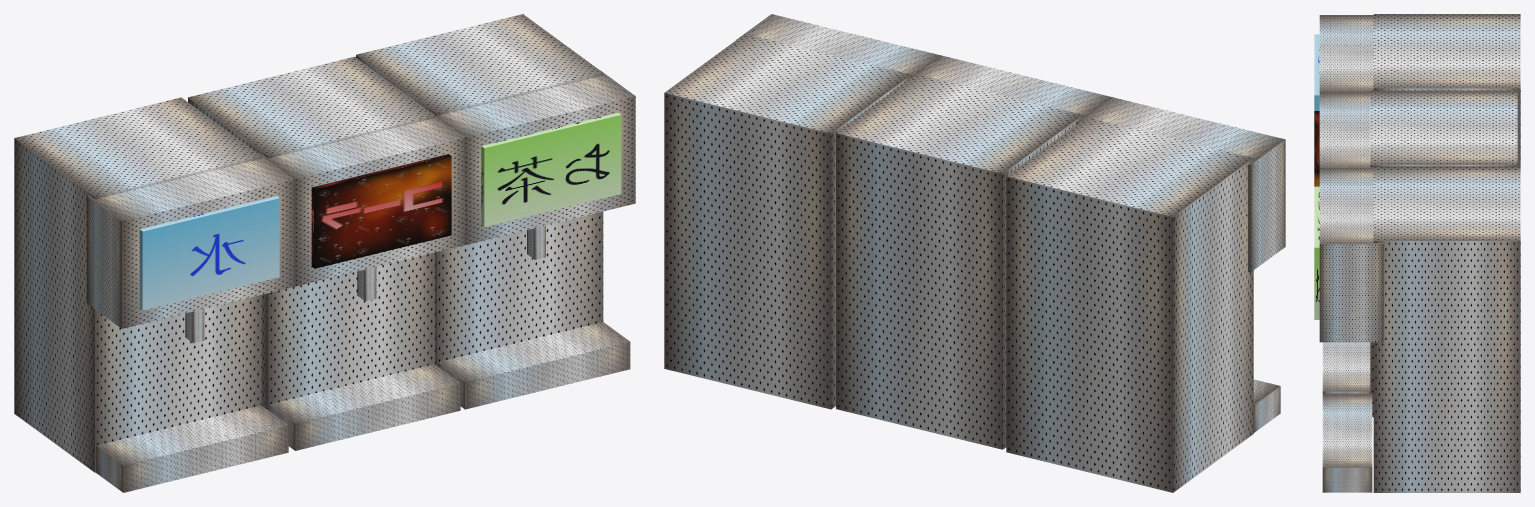
The model's file is dorinkuba2.FBX.
The picture shows the model from 3 angles, left to right: view 1: azimuth 30°, elevation 25°; view 2: azimuth 150°, elevation 25°; view 3: azimuth 270°, elevation 25°; orthographic projection. The views are drawn at different scales.
Parts seen in each view (by area): view 1: Box011, Box001, Box006, Box013, Box008, Box003, Box005, Box010, Box015, Box012, Box007, Box002; view 2: Box011, Box006, Box001, Box013, Box008, Box003, Box012; view 3: Box006, Box011, Box001, Box008, Box007, Box013, Box003, Box002, Box010, Box015, Box005.
Boxes of the visible parts, x1,y1,x2,y2 form: Box011: [14, 97, 261, 472]; Box001: [188, 56, 435, 410]; Box006: [356, 14, 603, 366]; Box013: [86, 154, 293, 328]; Box008: [431, 70, 635, 245]; Box003: [259, 117, 465, 286]; Box005: [311, 154, 451, 268]; Box010: [481, 112, 621, 227]; Box015: [139, 196, 279, 310]; Box012: [96, 405, 288, 492]; Box007: [438, 322, 630, 409]; Box002: [269, 364, 460, 450]; Box011: [1006, 117, 1253, 492]; Box006: [664, 34, 911, 409]; Box001: [836, 74, 1083, 449]; Box013: [1079, 97, 1285, 272]; Box008: [736, 14, 942, 79]; Box003: [906, 56, 1112, 124]; Box012: [1253, 379, 1280, 432]; Box006: [1373, 166, 1520, 492]; Box011: [1373, 14, 1520, 166]; Box001: [1370, 90, 1517, 417]; Box008: [1319, 167, 1383, 342]; Box007: [1322, 393, 1372, 492]; Box013: [1319, 15, 1373, 91]; Box003: [1319, 91, 1373, 168]; Box002: [1322, 342, 1370, 393]; Box010: [1314, 186, 1319, 319]; Box015: [1314, 34, 1319, 110]; Box005: [1314, 111, 1319, 186].
Bounding box in the file's own units: 215 × 82.02 × 111.
